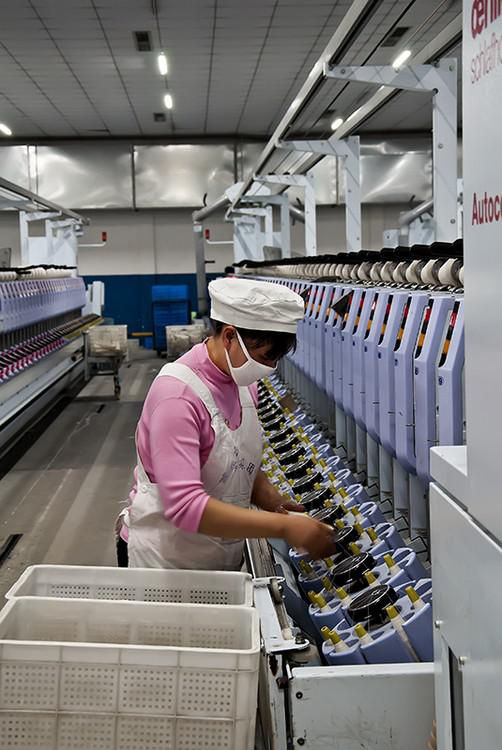OK: (227, 332, 284, 391)
